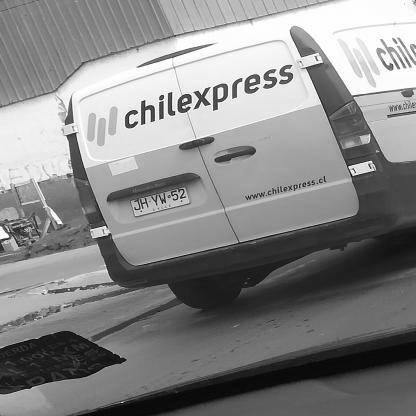Patente: (127, 184, 194, 219)
